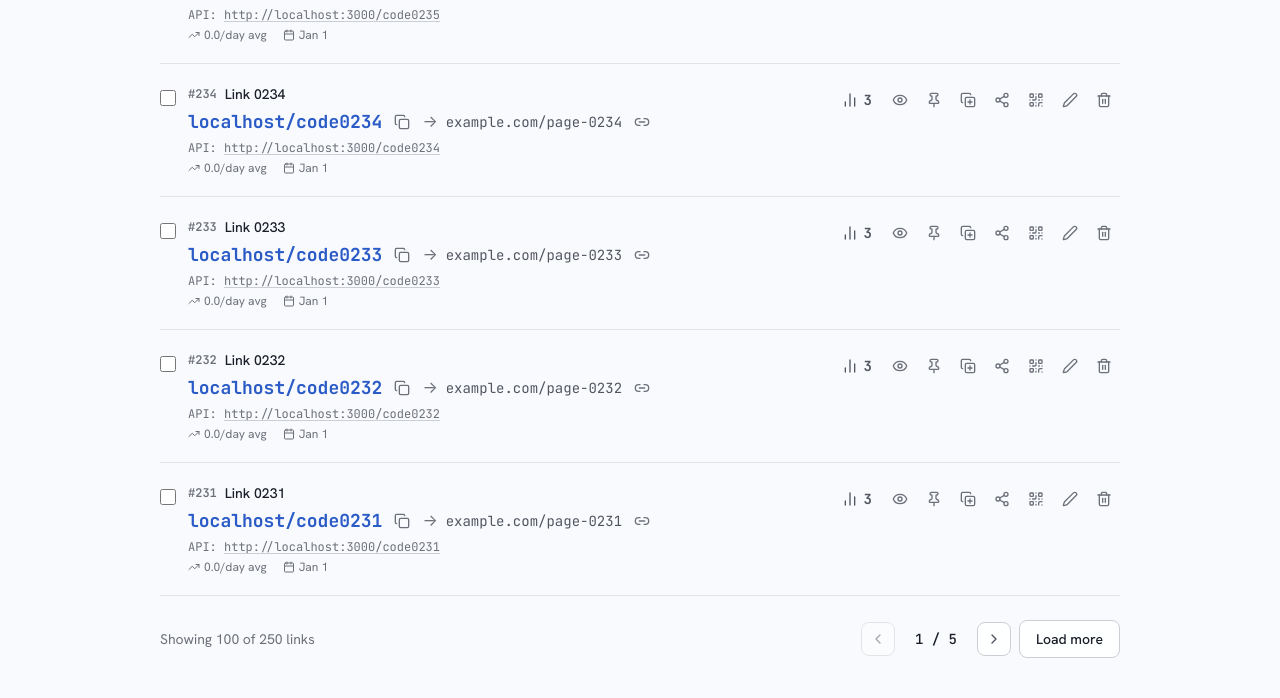
Dashboard paging › does not repeat a link that moved down while the next page was requested
(page scrolled)
Expected: the text "Showing 100 of 250 links" is shown, [160,629,315,649]
Click the button "Load more" at (1070, 639), box [1019,620,1120,658]
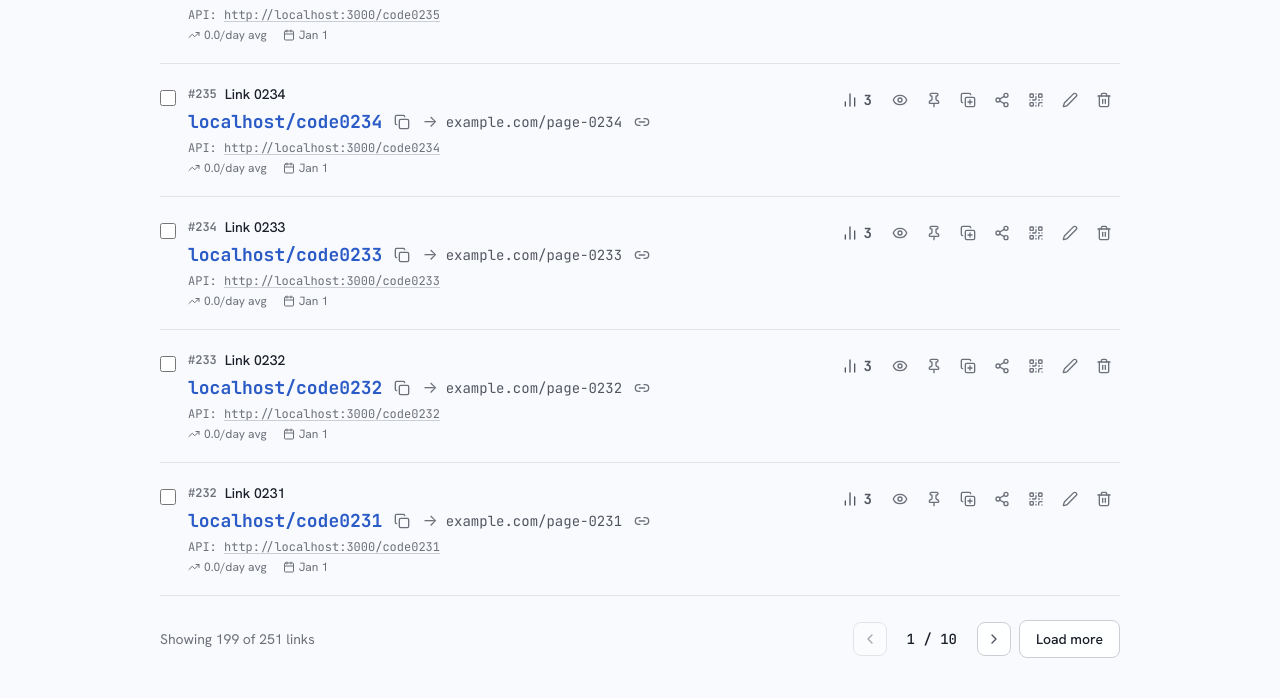
Now the text "Showing 199 of 251 links" is shown, box [160,629,315,649]
